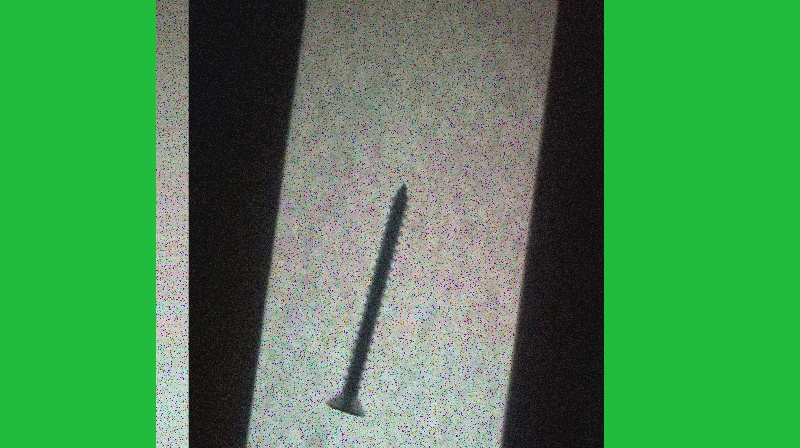S002: (320, 177, 409, 420)
